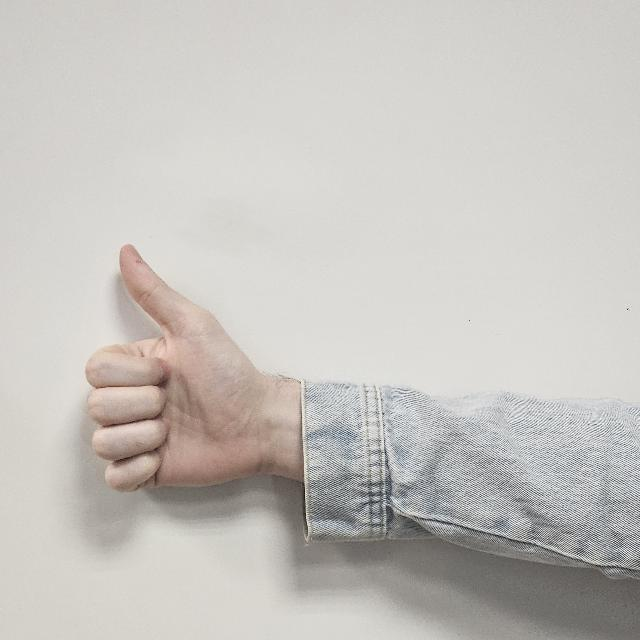Start: (72, 242, 294, 500)
